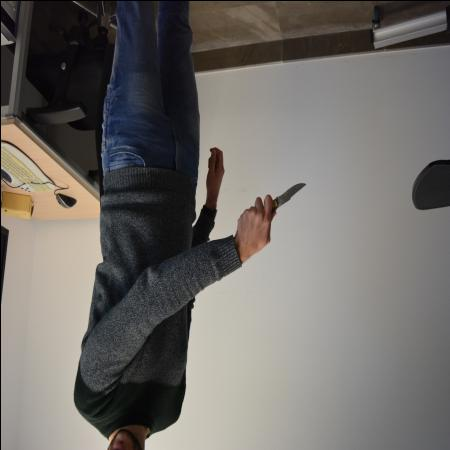long weapon: (249, 178, 309, 228)
